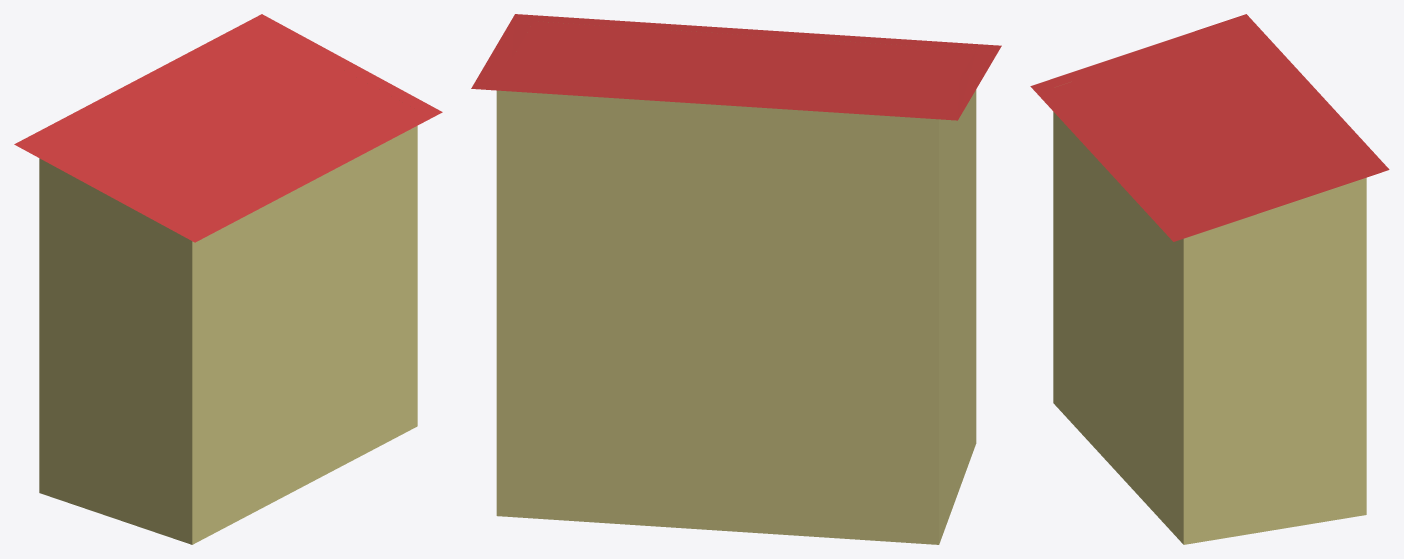
3 renders of one model, left to right at view 1: azimuth 30°, elevation 25°; view 2: azimuth 150°, elevation 25°; view 3: azimuth 270°, elevation 25°, orthographic. The views are drawn at different scales.
Size of the model in its own units: 6.3 by 5.01 by 5.37.
